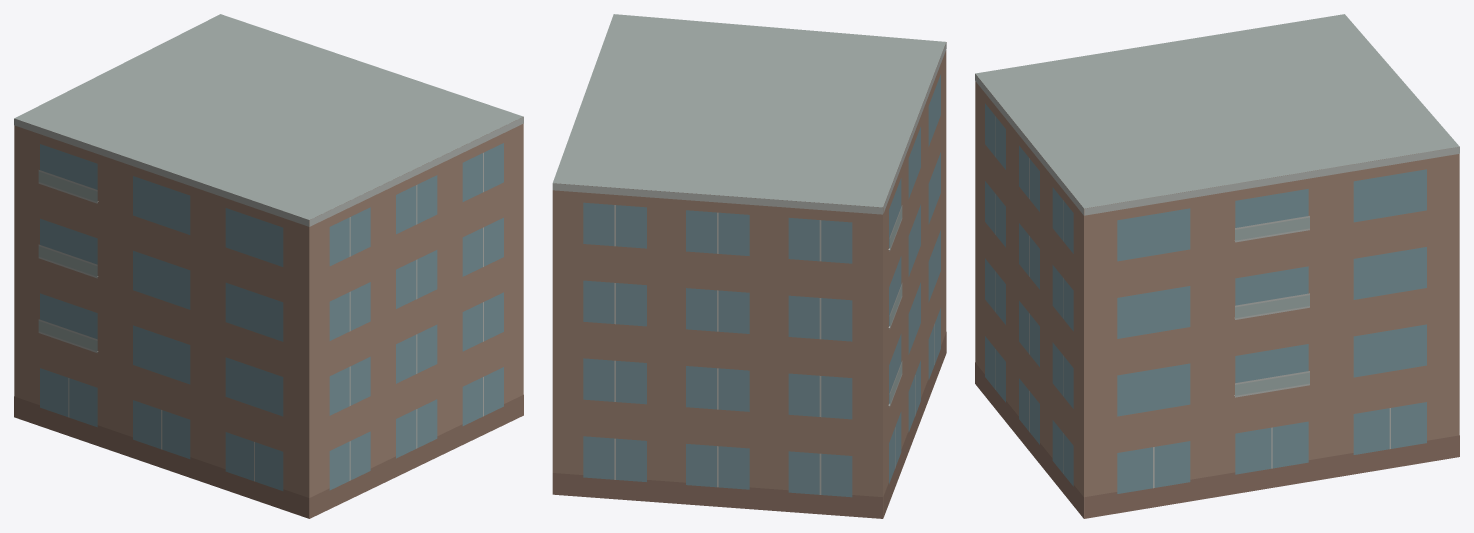
The model's file is survey-upis-32853124.glb.
The picture shows the model from 3 angles, left to right: view 1: azimuth 30°, elevation 25°; view 2: azimuth 150°, elevation 25°; view 3: azimuth 270°, elevation 25°; orthographic projection. The views are drawn at different scales.
Parts seen in each view (by area): view 1: survey-upis-32853124.tmp; view 2: survey-upis-32853124.tmp; view 3: survey-upis-32853124.tmp.
Part boxes in pixels (x1,y1,x2,y2): survey-upis-32853124.tmp: (14, 14, 523, 518); survey-upis-32853124.tmp: (552, 14, 946, 518); survey-upis-32853124.tmp: (975, 14, 1459, 518).
Bounding box in the file's own units: 14.27 × 10.6 × 15.02.
